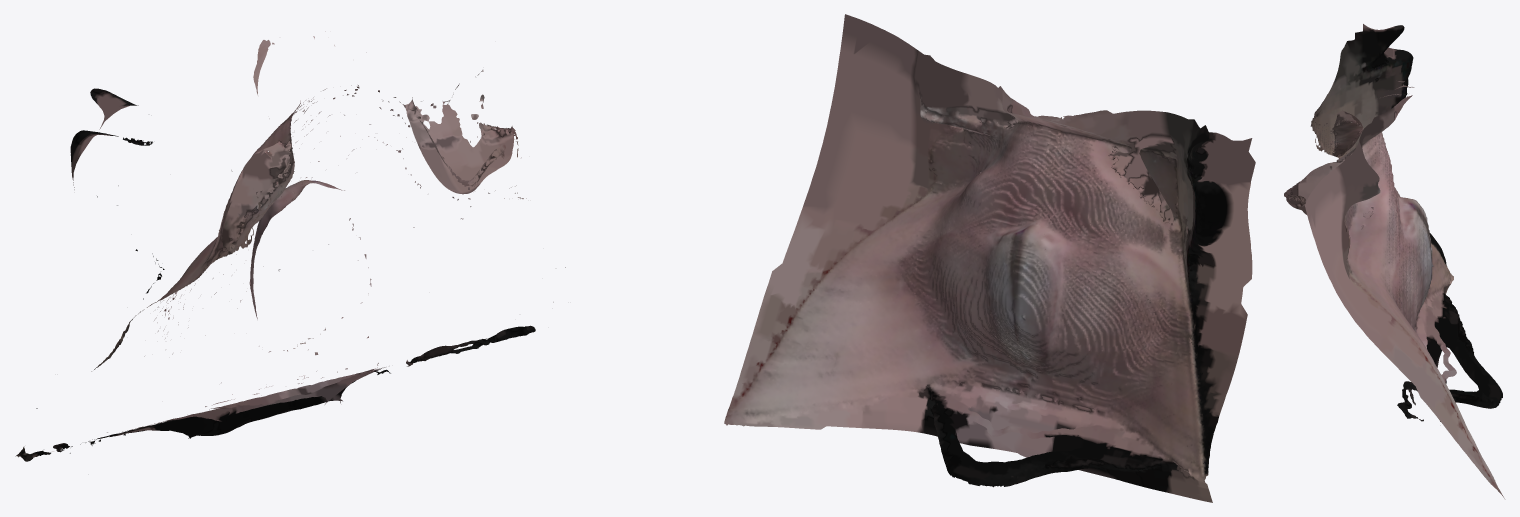
3 renders of one model, left to right at view 1: azimuth 30°, elevation 25°; view 2: azimuth 150°, elevation 25°; view 3: azimuth 270°, elevation 25°, orthographic. The views are drawn at different scales.
Size of the model in its own units: 0.00144 by 0.00103 by 0.00069.
